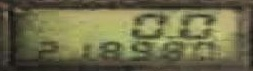-: (162, 32, 175, 38)
0: (175, 11, 213, 38), (127, 12, 162, 38), (188, 40, 216, 61)
1: (74, 39, 91, 58)
2: (30, 38, 61, 59)
8: (157, 40, 183, 61), (94, 40, 119, 60)
9: (122, 40, 152, 61)
